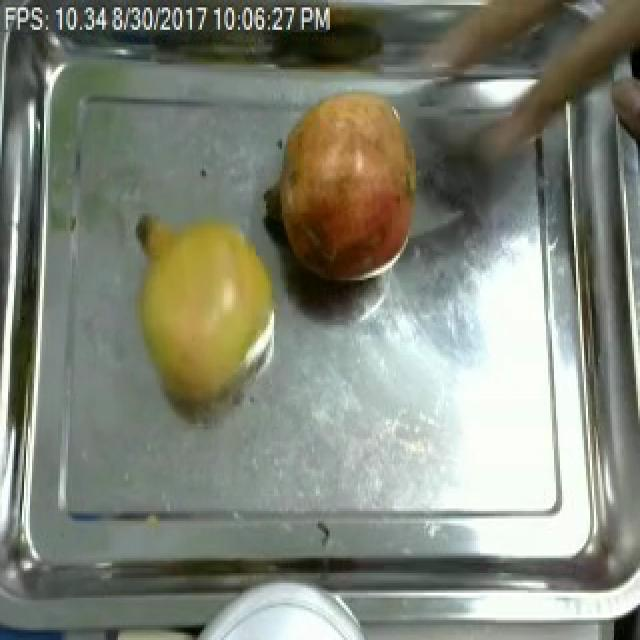fruit: (268, 79, 426, 293), (606, 50, 640, 164)
